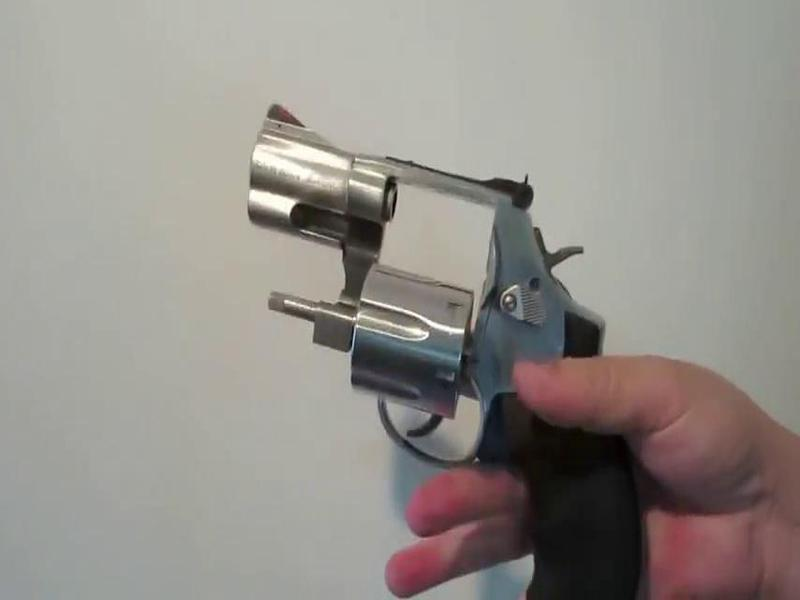Revolver: (212, 92, 673, 600)
